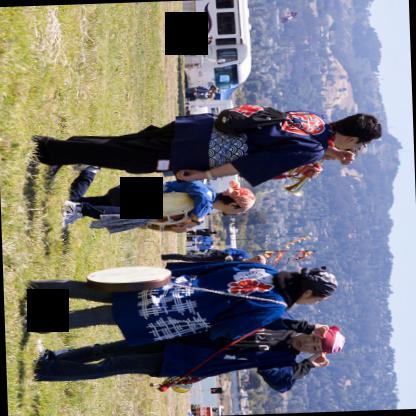backpack: (213, 106, 286, 135)
handbag: (157, 328, 264, 393)
